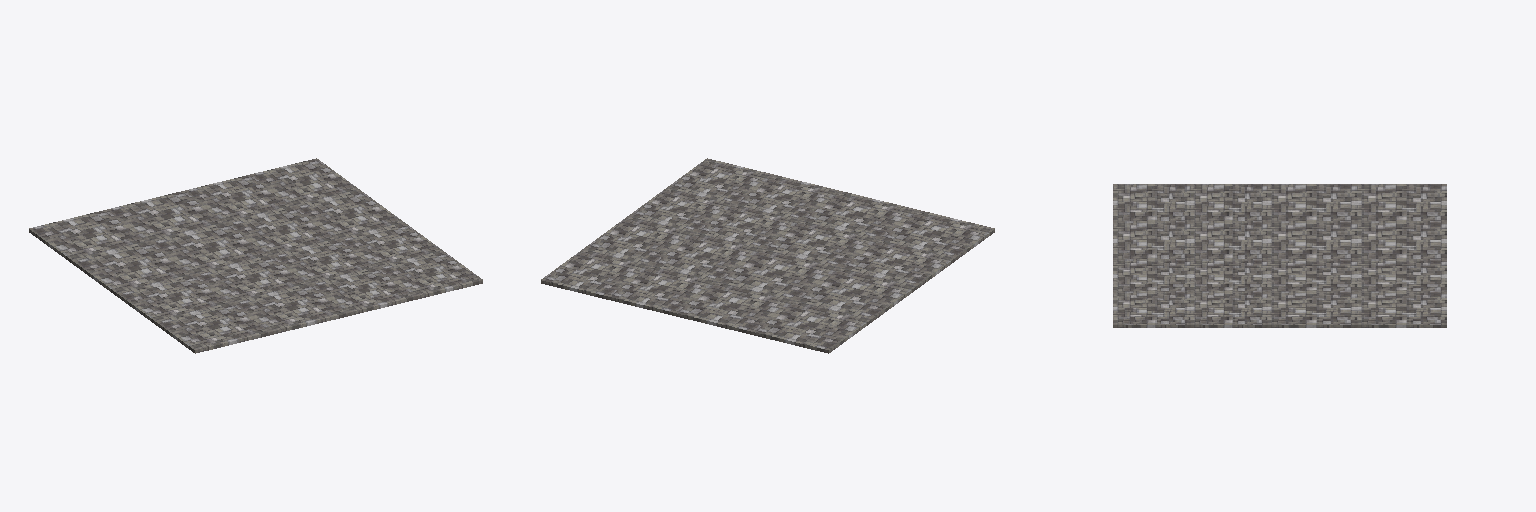
3 views of the same model, side by side, from view 1: azimuth 30°, elevation 25°; view 2: azimuth 150°, elevation 25°; view 3: azimuth 270°, elevation 25° (orthographic).
Parts seen in each view (by area): view 1: 7_Pavement-A-C; view 2: 7_Pavement-A-C; view 3: 7_Pavement-A-C.
Boxes of the visible parts, <box> form: 7_Pavement-A-C: <box>29,158,482,353</box>; 7_Pavement-A-C: <box>541,158,994,353</box>; 7_Pavement-A-C: <box>1113,184,1446,327</box>.
Bounding box in the file's own units: 1.24 × 0.0135 × 1.24.
Materials: 1 (1 with a texture image).